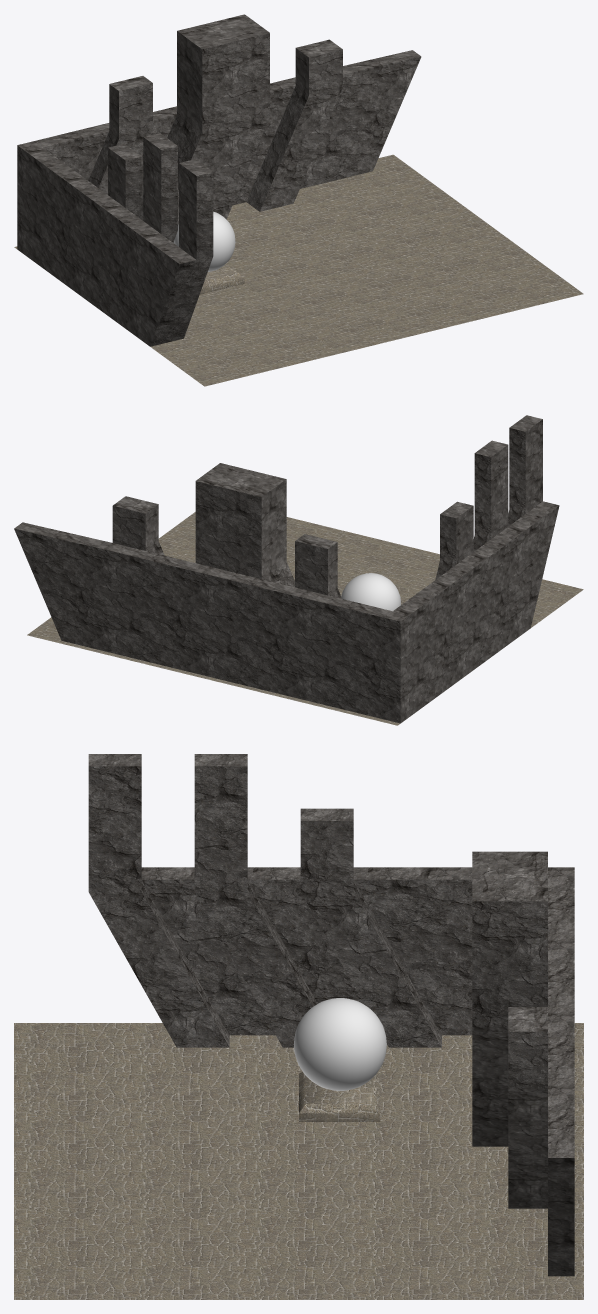
Rendered from GROK.fbx.
3 renders of one model, top to bottom at view 1: azimuth 30°, elevation 25°; view 2: azimuth 150°, elevation 25°; view 3: azimuth 270°, elevation 25°, orthographic. The views are drawn at different scales.
Parts seen in each view (by area): view 1: floor.split, floor, locknar; view 2: floor.split, floor, locknar; view 3: floor, floor.split, locknar.
Part boxes in pixels (left/top/right/bottom): floor.split: left=17, top=14, right=421, bottom=346; floor: left=14, top=154, right=583, bottom=386; locknar: left=173, top=211, right=235, bottom=271; floor.split: left=14, top=415, right=559, bottom=723; floor: left=27, top=512, right=583, bottom=725; locknar: left=341, top=573, right=400, bottom=611; floor: left=14, top=1023, right=583, bottom=1299; floor.split: left=88, top=754, right=574, bottom=1276; locknar: left=293, top=998, right=386, bottom=1090.
Bounding box in the file's own units: 3966 × 1816 × 3310.
